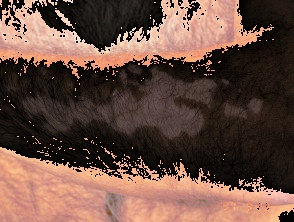vitiligo: (3, 57, 276, 148)
